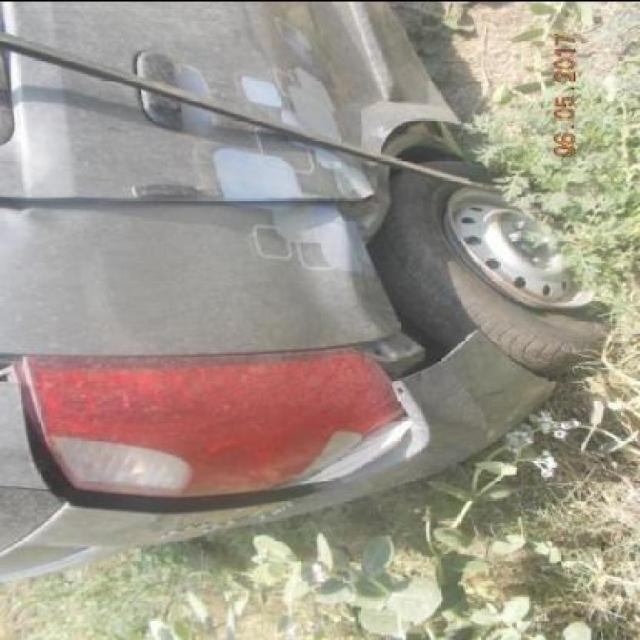damage: (332, 105, 481, 377), (266, 1, 468, 199)
